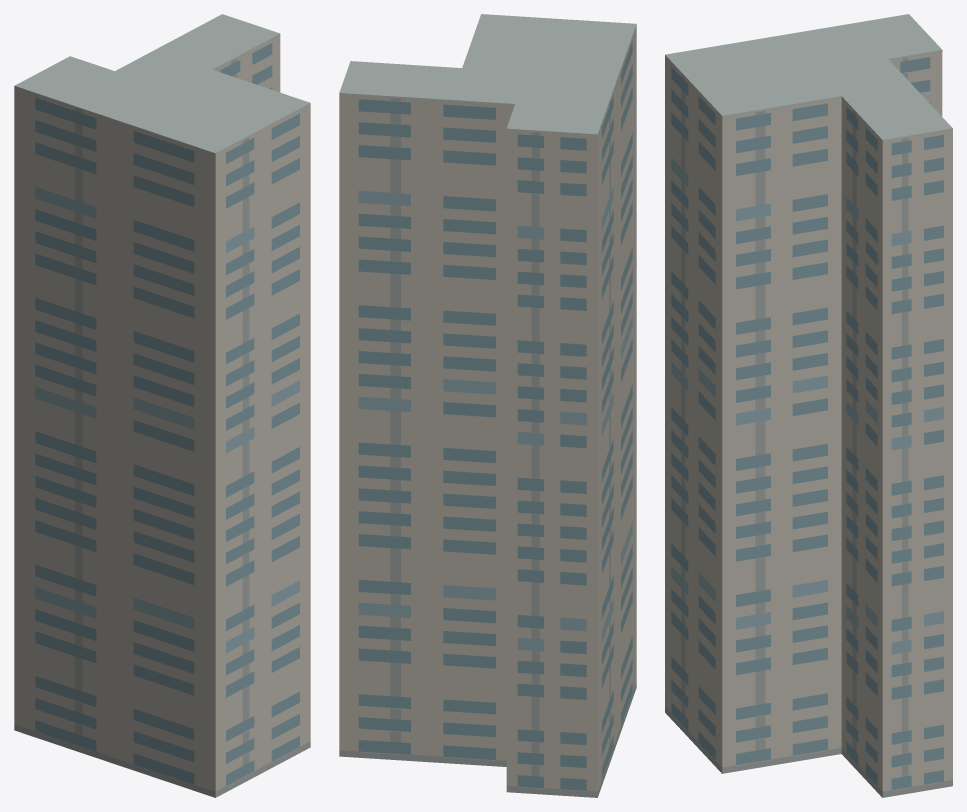
File: residential-7fc4e445-c96a-4907-9f68-16d6ca2a34b0.glb
The picture shows the model from 3 angles, left to right: view 1: azimuth 30°, elevation 25°; view 2: azimuth 150°, elevation 25°; view 3: azimuth 270°, elevation 25°; orthographic projection. The views are drawn at different scales.
Parts seen in each view (by area): view 1: residential-7fc4e445-c96a-4907-9f68-16d6ca2a34b0.tmp; view 2: residential-7fc4e445-c96a-4907-9f68-16d6ca2a34b0.tmp; view 3: residential-7fc4e445-c96a-4907-9f68-16d6ca2a34b0.tmp.
Part boxes in pixels (box(x1,y1,x2,y2)): residential-7fc4e445-c96a-4907-9f68-16d6ca2a34b0.tmp: box(14, 14, 310, 797); residential-7fc4e445-c96a-4907-9f68-16d6ca2a34b0.tmp: box(339, 14, 636, 797); residential-7fc4e445-c96a-4907-9f68-16d6ca2a34b0.tmp: box(665, 14, 952, 797).
Bounding box in the file's own units: 33.7 × 82 × 32.53.
